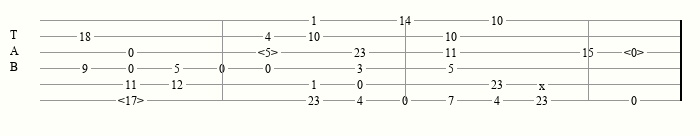0: (128, 46, 138, 59), (128, 62, 138, 75), (219, 62, 229, 75), (265, 62, 275, 75), (357, 78, 367, 91), (402, 94, 412, 107), (631, 94, 641, 107)
1: (311, 78, 321, 91), (311, 14, 321, 27)
10: (308, 30, 324, 43), (445, 30, 461, 43), (491, 14, 507, 27)
11: (125, 78, 141, 91), (445, 46, 461, 59)
12: (171, 78, 187, 91)
14: (399, 14, 415, 27)
15: (582, 46, 598, 59)
18: (79, 30, 95, 43)
23: (308, 94, 324, 107), (354, 46, 370, 59), (491, 78, 507, 91), (536, 94, 552, 107)
3: (357, 62, 367, 75)
4: (265, 30, 275, 43), (357, 94, 367, 107), (494, 94, 504, 107)
5: (174, 62, 184, 75), (448, 62, 458, 75)
7: (448, 94, 458, 107)
9: (82, 62, 92, 75)
harmonic: (118, 94, 148, 107), (258, 46, 282, 59), (624, 46, 648, 59)
x: (539, 79, 549, 89)
